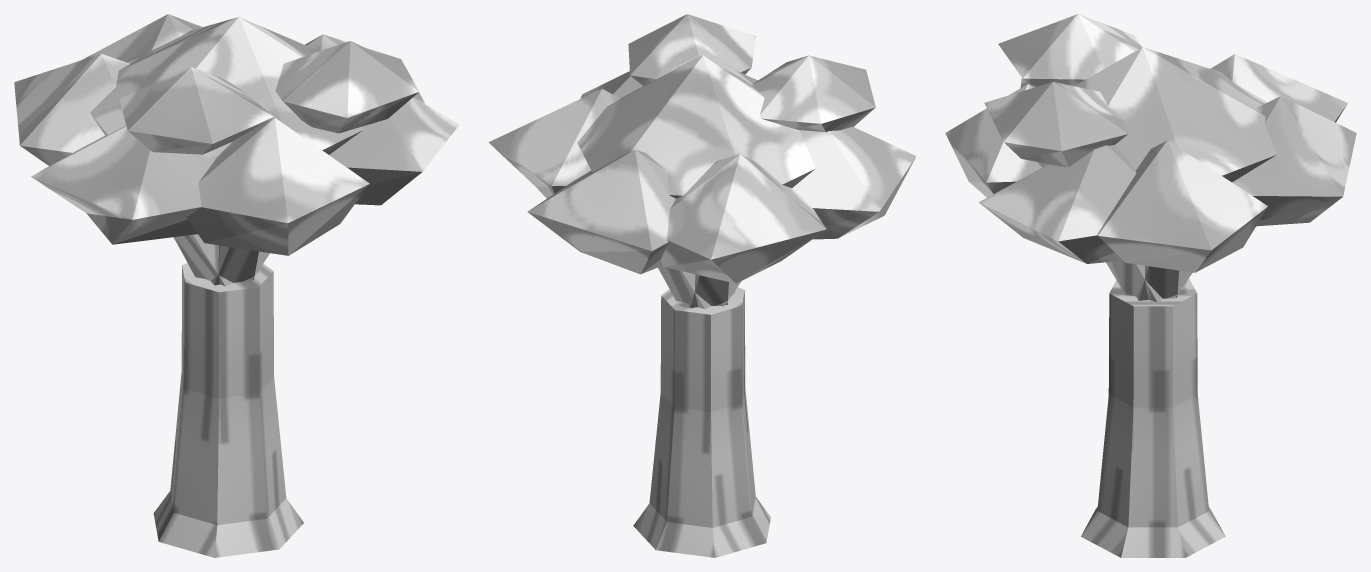
File: tree_drago.obj
3 renders of one model, left to right at view 1: azimuth 30°, elevation 25°; view 2: azimuth 150°, elevation 25°; view 3: azimuth 270°, elevation 25°, orthographic. The views are drawn at different scales.
Visible parts, largest first — view 1: tree_drago; view 2: tree_drago; view 3: tree_drago.
Part boxes in pixels (bbox=[...]): tree_drago: bbox=[14, 14, 459, 557]; tree_drago: bbox=[488, 14, 916, 557]; tree_drago: bbox=[945, 14, 1356, 557].
Bounding box in the file's own units: 0.8254 × 1.01 × 0.7754.
